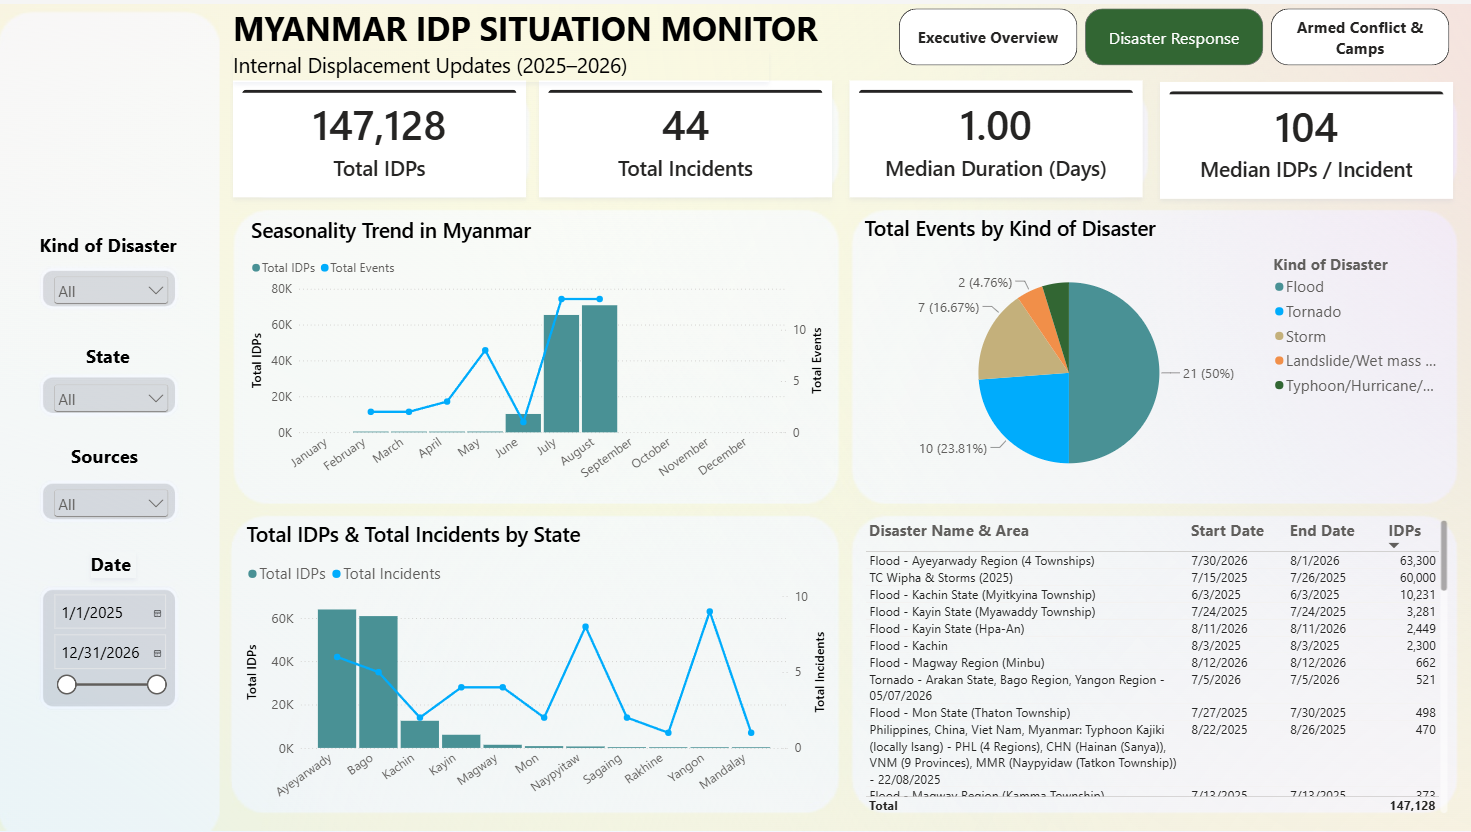

This screenshot's page, from the dashboard's own definition file:
{"tool":"powerbi","page":{"name":"Disaster Response","canvas":[1920,1080],"ordinal":1},"visuals":[{"type":"cardVisual","fields":{"Data":["measure_table.Total Displacements"]},"box":[304.4,99.9,381.6,152.2],"z":0},{"type":"cardVisual","fields":{"Data":["measure_table.Average Displacements per Incident"]},"box":[1510.4,102.2,381.6,152.2],"z":1000},{"type":"cardVisual","fields":{"Data":["measure_table.Total Incidents"]},"box":[701.8,99.9,381.6,152.2],"z":2000},{"type":"cardVisual","fields":{"Data":["measure_table.Average Incidents Date"]},"box":[1106.1,99.9,381.6,152.2],"z":3000},{"type":"lineClusteredColumnComboChart","title":"Seasonality Trend in Myanmar","fields":{"Category":["dim_date.Month Name"],"Y":["measure_table.Total Displacements"],"Y2":["measure_table.Total Events"]},"box":[327.1,274.8,749.5,361.1],"z":4000},{"type":"tableEx","fields":{"Values":["dim_events.event_name","dim_events.event_start_date","dim_events.event_end_date","measure_table.Total Displacements"]},"box":[1126.6,672.3,758.6,381.6],"z":5000},{"type":"lineClusteredColumnComboChart","title":"Total IDPs & Total Incidents by State","fields":{"Category":["fct_displacements.state"],"Y":["measure_table.Total Displacements"],"Y2":["measure_table.Total Incidents"]},"box":[321.8,671.6,758.6,381.6],"z":6000},{"type":"pieChart","title":"Total Events by Kind of Disaster","fields":{"Category":["dim_events.subtype"],"Y":["measure_table.Total Events"]},"box":[1126,274,760,362],"z":7000},{"type":"slicer","fields":{"Values":["dim_date.Date"]},"box":[63.6,763.2,156.7,145.4],"z":8000},{"type":"textbox","box":[118.1,713.2,59.1,34.1],"z":9000},{"type":"slicer","fields":{"Values":["dim_events.subtype"]},"box":[65.9,349.8,159,47.7],"z":10000},{"type":"textbox","box":[113.6,440.6,59.1,34.1],"z":11000},{"type":"slicer","fields":{"Values":["dim_events.state"]},"box":[65.9,490.6,159,50],"z":12000},{"type":"textbox","box":[52.2,297.5,204.4,31.8],"z":13000},{"type":"slicer","fields":{"Values":["dim_events.sources"]},"box":[66.2,625.7,159,47.7],"z":14000},{"type":"textbox","box":[93.1,572.4,106.8,34.1],"z":15000},{"type":"textbox","box":[304.4,61.3,697.3,40.9],"z":15001},{"type":"textbox","box":[304.4,2.3,776.8,59.1],"z":15002},{"type":"pageNavigator","box":[1172,6.8,717.7,75],"z":15003}]}

Visuals, with their boxes in screenshot pixels (x1, y1, x2, y2), scaled from the page's 1920x1080 canvas onto the 1471x832 screenshot:
cardVisual - measure_table.Total Displacements: 233,77,526,194
cardVisual - measure_table.Average Displacements per Incident: 1157,79,1450,196
cardVisual - measure_table.Total Incidents: 538,77,830,194
cardVisual - measure_table.Average Incidents Date: 847,77,1140,194
"Seasonality Trend in Myanmar" lineClusteredColumnComboChart: 251,212,825,490
tableEx - dim_events.event_name x dim_events.event_start_date: 863,518,1444,812
"Total IDPs & Total Incidents by State" lineClusteredColumnComboChart: 247,517,828,811
"Total Events by Kind of Disaster" pieChart: 863,211,1445,490
slicer - dim_date.Date: 49,588,169,700
textbox: 90,549,136,576
slicer - dim_events.subtype: 50,269,172,306
textbox: 87,339,132,366
slicer - dim_events.state: 50,378,172,416
textbox: 40,229,197,254
slicer - dim_events.sources: 51,482,173,519
textbox: 71,441,153,467
textbox: 233,47,767,79
textbox: 233,2,828,47
pageNavigator: 898,5,1448,63
